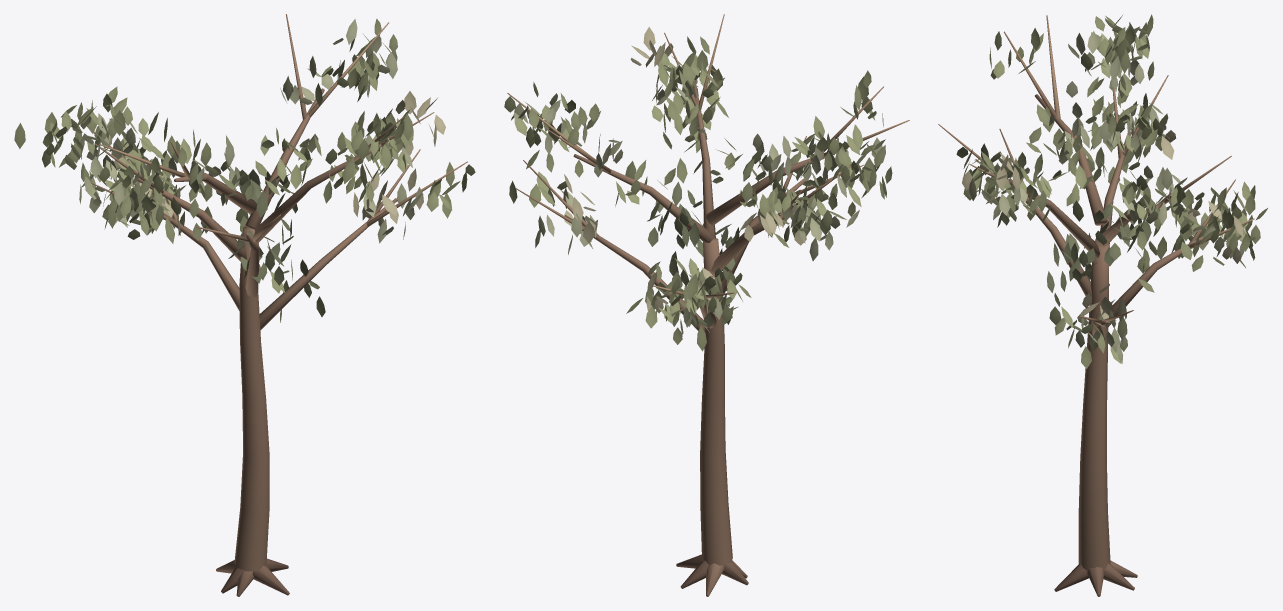
Rendered from tree_3d_03.glb.
3 renders of one model, left to right at view 1: azimuth 30°, elevation 25°; view 2: azimuth 150°, elevation 25°; view 3: azimuth 270°, elevation 25°, orthographic. The views are drawn at different scales.
Parts seen in each view (by area): view 1: tree_3d_03_foliage, tree_3d_03_wood; view 2: tree_3d_03_foliage, tree_3d_03_wood; view 3: tree_3d_03_foliage, tree_3d_03_wood.
Boxes of the visible parts, x1,y1,x2,y2 form: tree_3d_03_foliage: [14, 18, 475, 322]; tree_3d_03_wood: [86, 14, 467, 596]; tree_3d_03_foliage: [504, 27, 892, 351]; tree_3d_03_wood: [507, 14, 909, 596]; tree_3d_03_foliage: [956, 14, 1267, 368]; tree_3d_03_wood: [938, 15, 1254, 596].
Size of the model in its own units: 10.71 by 12.75 by 7.59.
